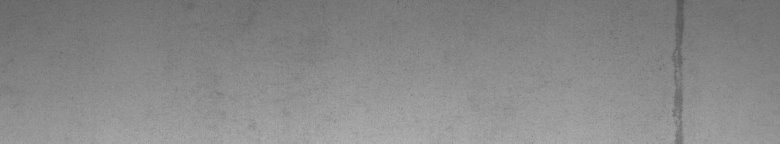hd: (669, 4, 688, 136)
